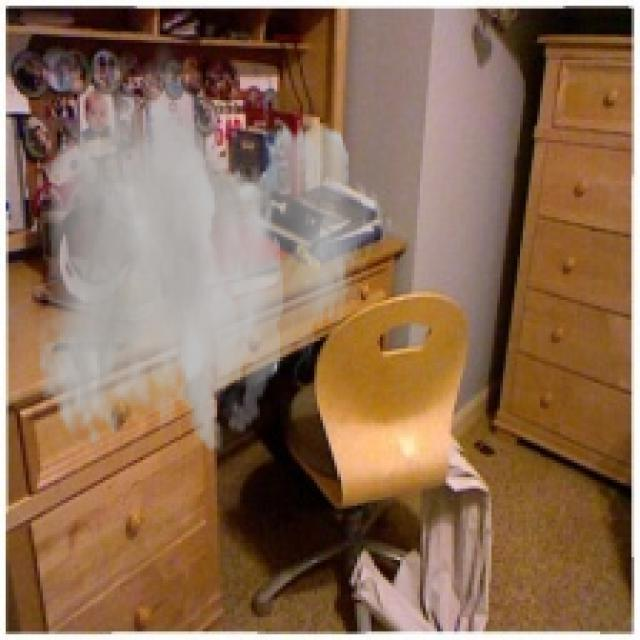Smoke: (37, 34, 394, 454)
